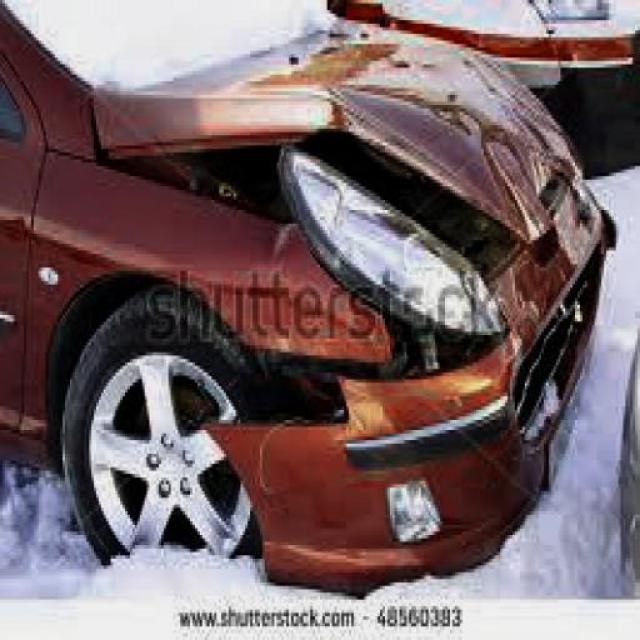car damage: (93, 66, 586, 447)
